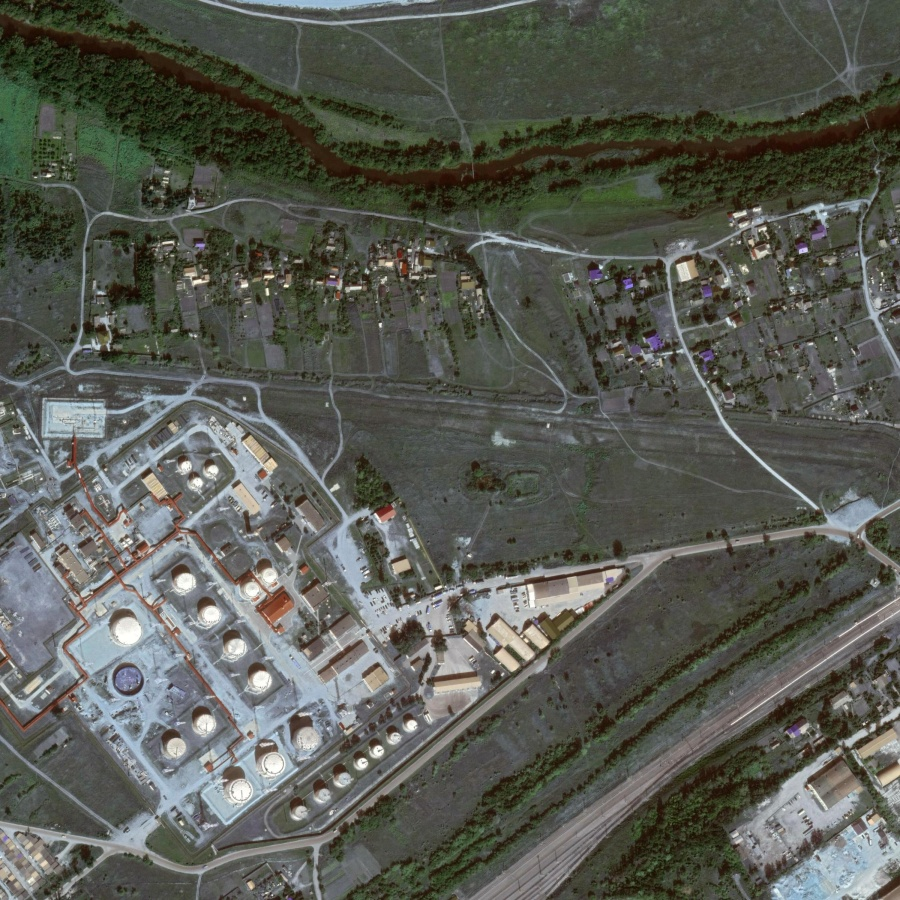PowerPlant: (111, 531, 424, 822)
